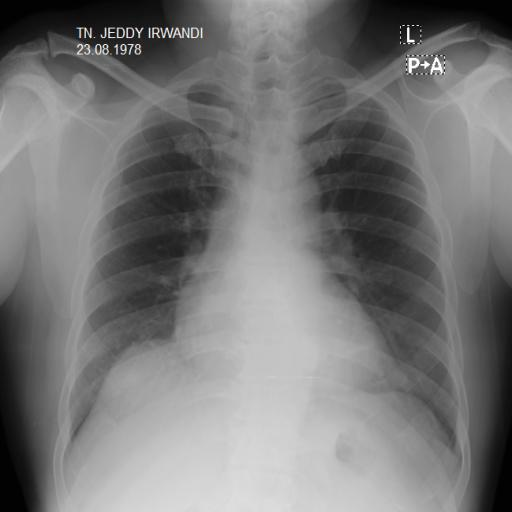kardiomegali: (46, 48, 472, 474)
